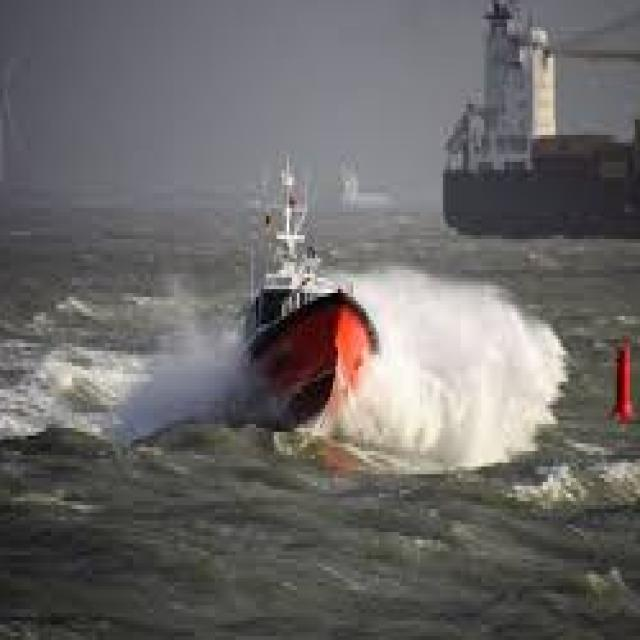buoy: (599, 328, 640, 428)
cargoship: (443, 0, 640, 227)
houseboat: (225, 131, 368, 431)
